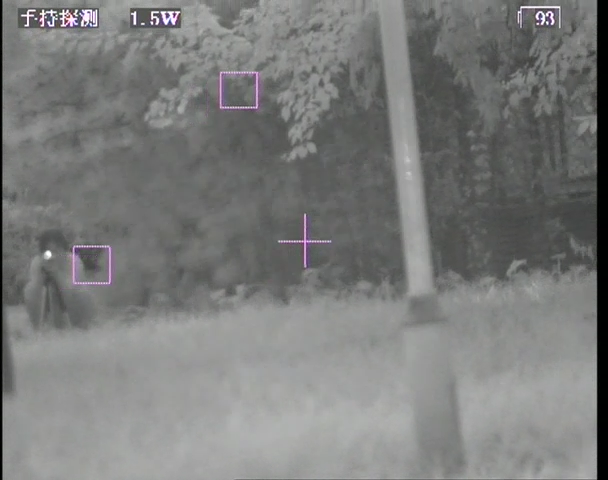my: (42, 248, 55, 259)
